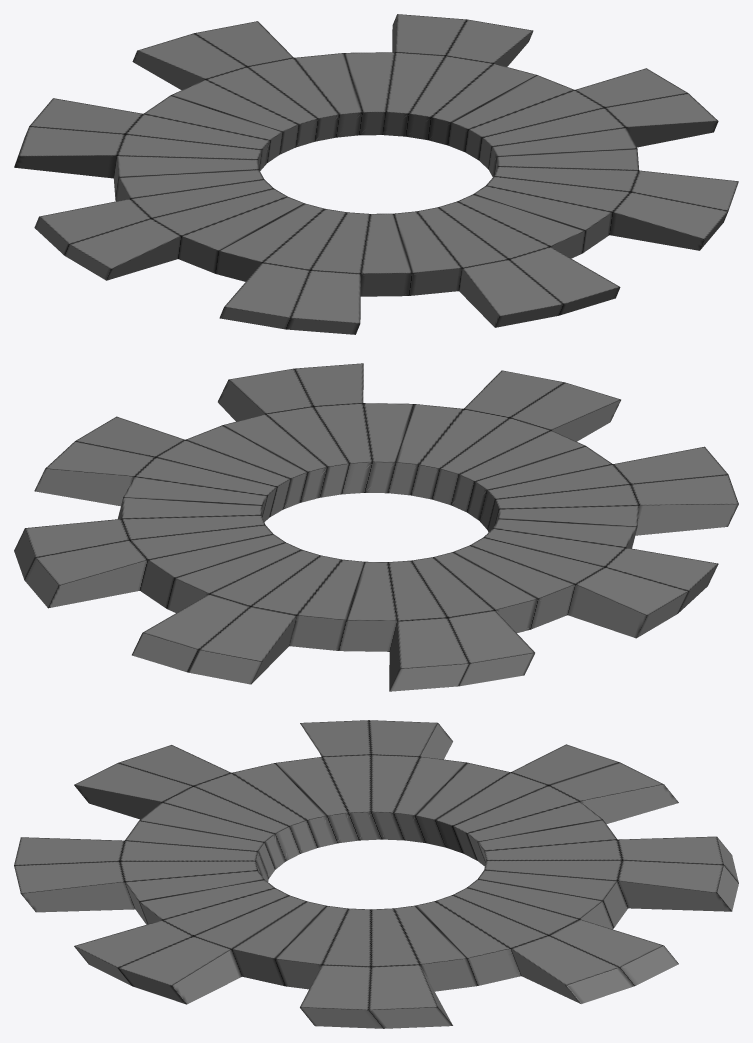
File: Gear2.fbx
3 views of the same model, one above another, from view 1: azimuth 30°, elevation 25°; view 2: azimuth 150°, elevation 25°; view 3: azimuth 270°, elevation 25° (orthographic). The views are drawn at different scales.
Parts seen in each view (by area): view 1: Cylinder.001; view 2: Cylinder.001; view 3: Cylinder.001.
Part boxes in pixels (box(x1,y1,x2,y2)): Cylinder.001: box(14, 14, 738, 334); Cylinder.001: box(14, 363, 738, 691); Cylinder.001: box(14, 720, 738, 1028).
Size of the model in its own units: 200 by 8.77 by 210.
